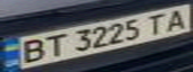2: (106, 19, 130, 47), (90, 24, 112, 51)
3: (69, 26, 93, 53)
5: (121, 16, 148, 43)
A: (160, 7, 193, 33)
B: (12, 36, 51, 65)
T: (36, 30, 69, 59), (139, 10, 172, 36)
